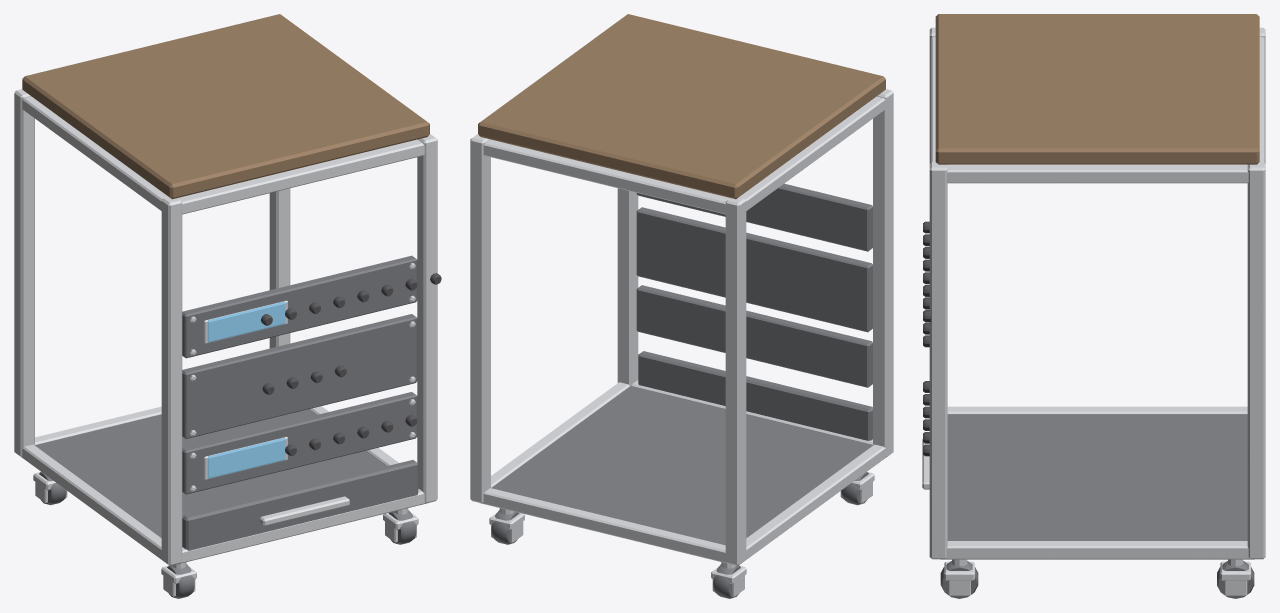
File: outboard-frame.glb
3 views of the same model, side by side, from view 1: azimuth 30°, elevation 25°; view 2: azimuth 150°, elevation 25°; view 3: azimuth 270°, elevation 25° (orthographic). The views are drawn at different scales.
Visible parts, largest first — view 1: outboard-rack-on-wheels, drawer/dark, drawer/metal; view 2: outboard-rack-on-wheels, drawer/dark; view 3: outboard-rack-on-wheels.
Boxes of the visible parts, bbox=[...] form: outboard-rack-on-wheels: bbox=[14, 14, 441, 598]; drawer/dark: bbox=[182, 460, 418, 550]; drawer/metal: bbox=[259, 496, 349, 526]; outboard-rack-on-wheels: bbox=[470, 14, 893, 598]; drawer/dark: bbox=[638, 351, 872, 440]; outboard-rack-on-wheels: bbox=[923, 14, 1265, 598].
Bounding box in the file's own units: 0.5616 × 0.84 × 0.572.
